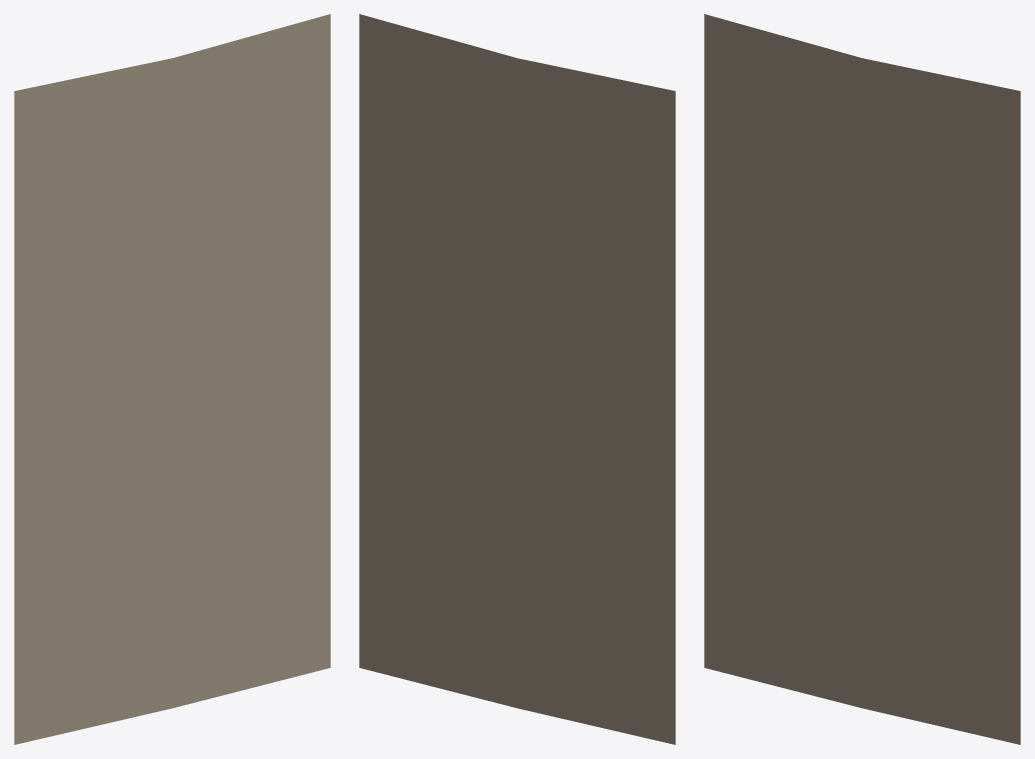
The model's file is SM_NetWall_2x1.fbx.
3 renders of one model, left to right at view 1: azimuth 30°, elevation 25°; view 2: azimuth 150°, elevation 25°; view 3: azimuth 330°, elevation 25°, orthographic.
Parts seen in each view (by area): view 1: SM_Net_2x1; view 2: SM_Net_2x1; view 3: SM_Net_2x1.
Part boxes in pixels (x1=…): SM_Net_2x1: x1=14, y1=14, x2=330, y2=744; SM_Net_2x1: x1=359, y1=14, x2=675, y2=744; SM_Net_2x1: x1=704, y1=14, x2=1020, y2=744.
Bounding box in the file's own units: 100 × 198 × 2.59e-06.
